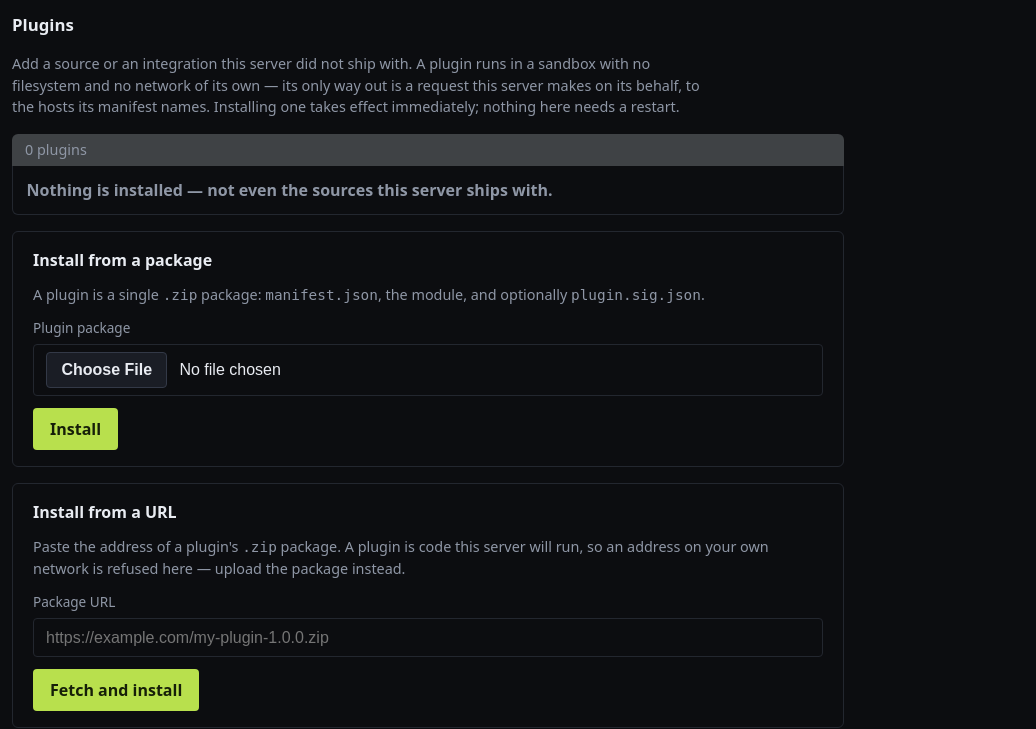
Test: the Plugins screen — review fixes › keeps the pasted URL when the install is refused (R02-03)
Step 1. Type "http://10.0.0.5/p.zip" into the field with test id "plugin-url" → (428, 638), box x1=33 y1=618 x2=823 y2=657
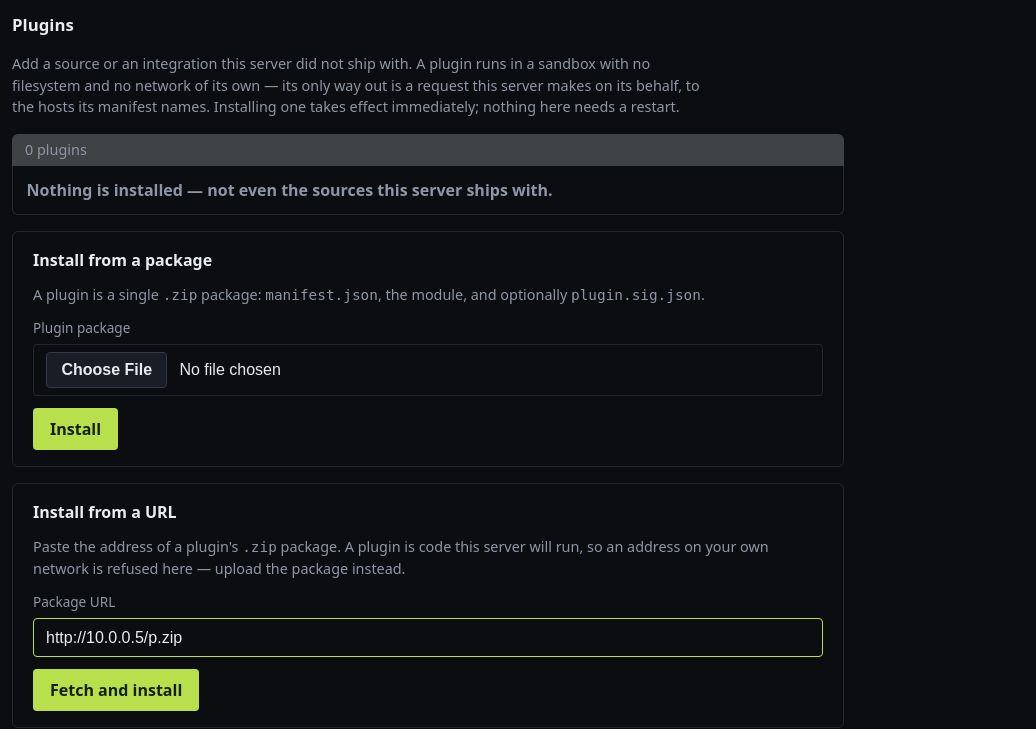
Step 2. Click the button with test id "plugin-install-from-url" → (116, 690), box x1=33 y1=669 x2=199 y2=710
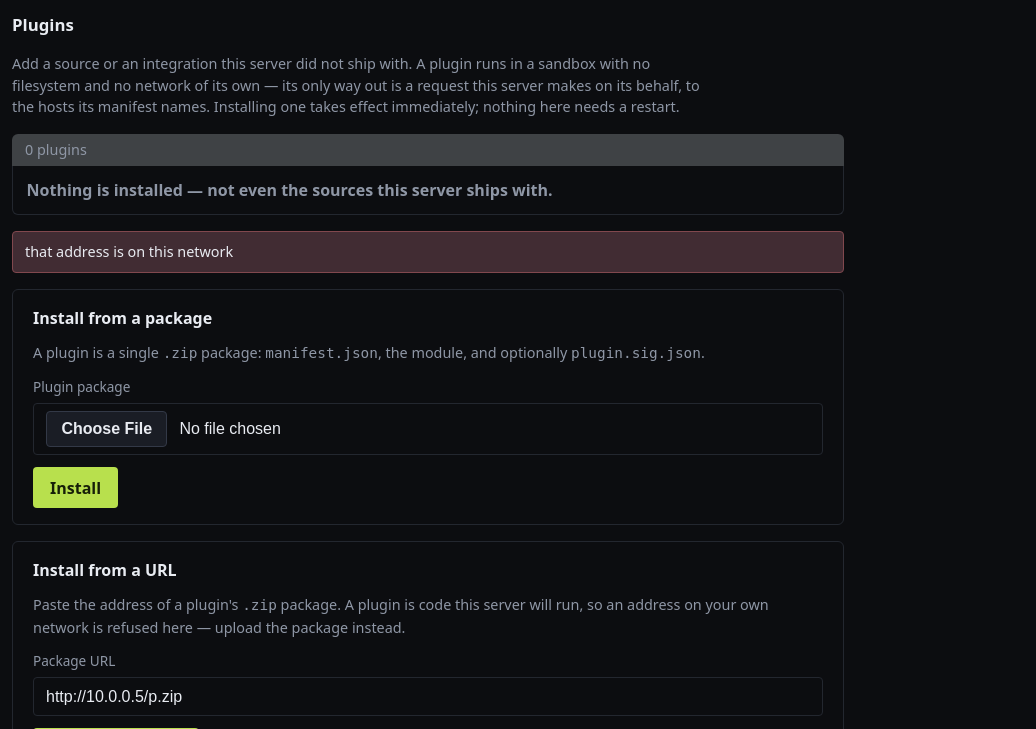
expect the text "that address is on this network" is shown: met, box x1=12 y1=231 x2=844 y2=273
